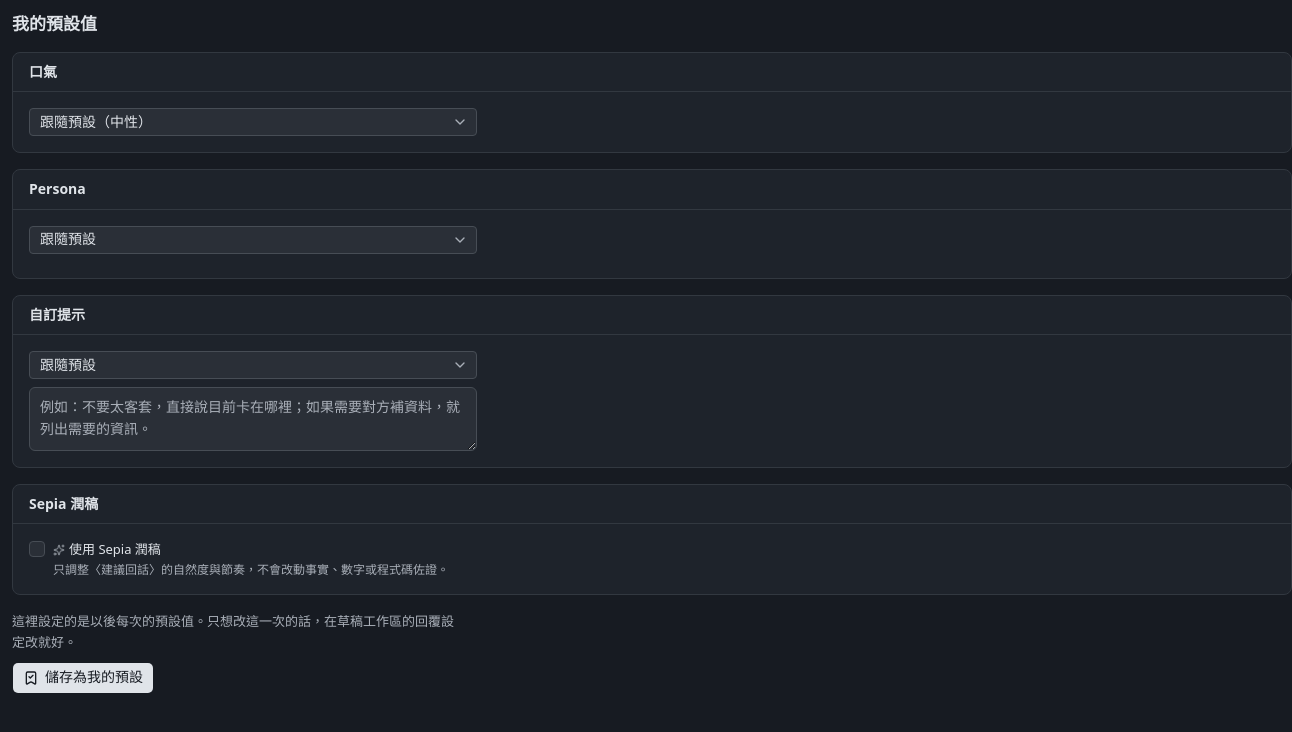
Scenario: 兩處回覆設定渲染同一組控件 › 停用的 Persona 兩邊都不列出來
Click the dropdown named "Persona" at (68, 239), box [29, 226, 477, 254]
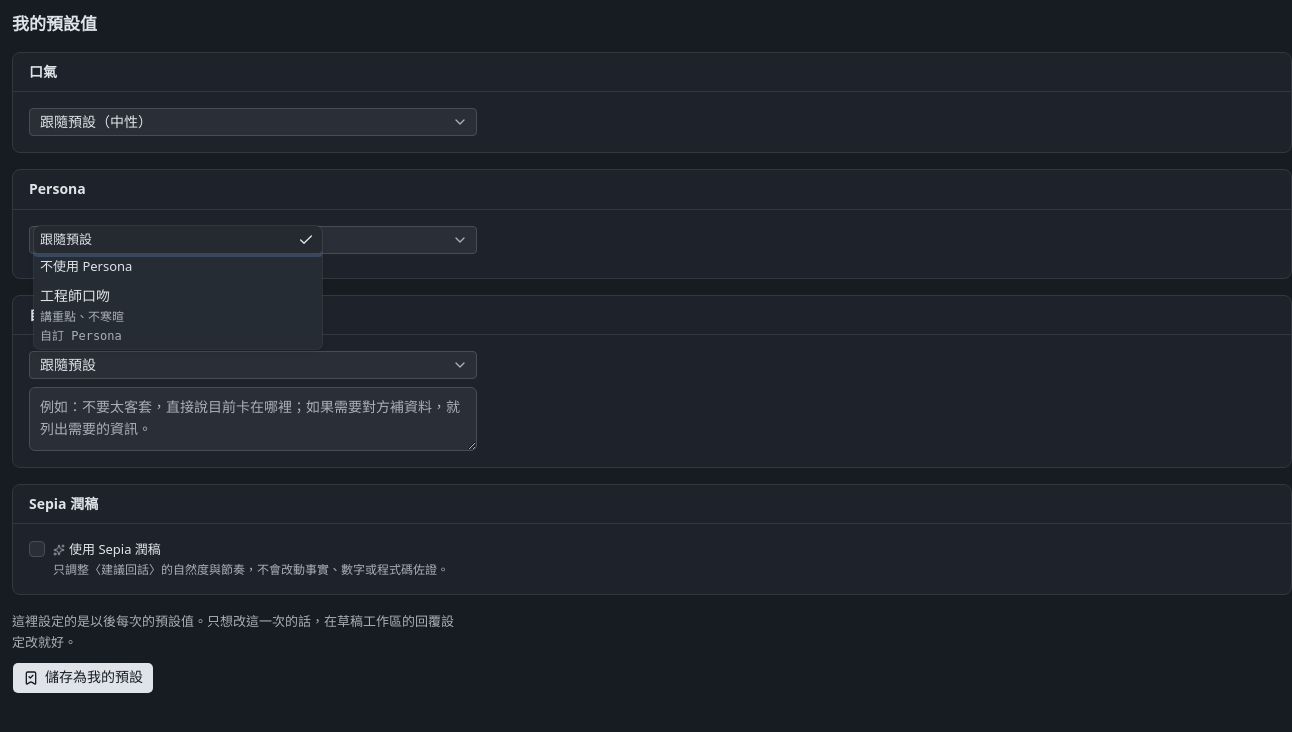
Check: the text "工程師口吻" is shown, box [40, 286, 110, 305]
